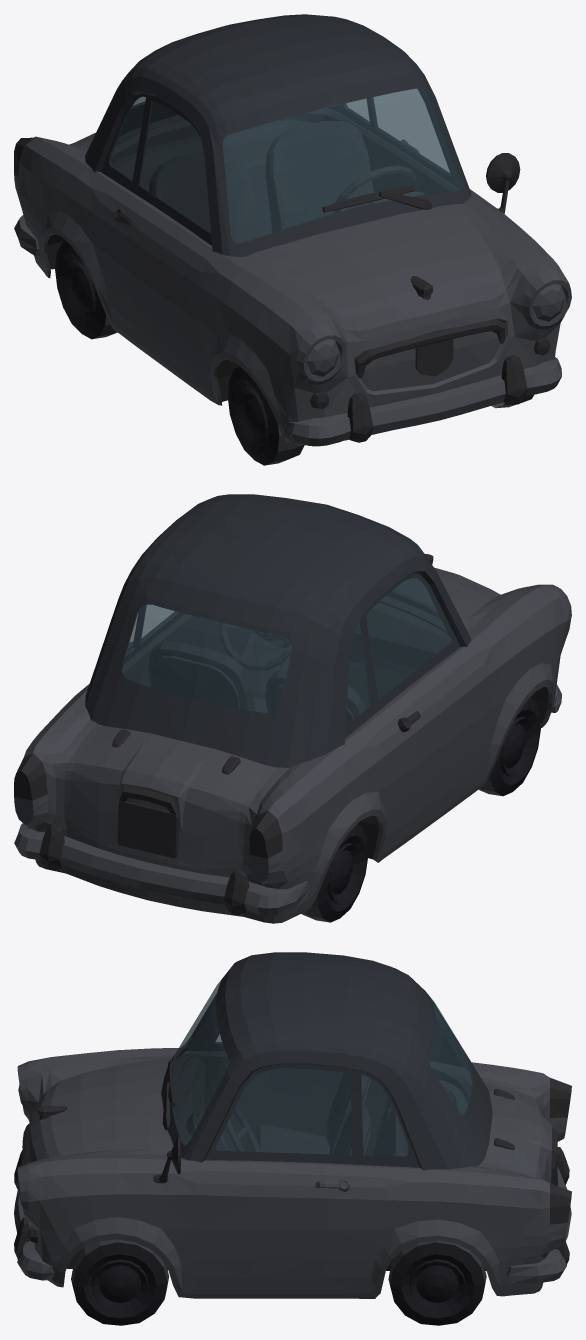
The model's file is pony_custom_ready.glb.
The picture shows the model from 3 angles, top to bottom: view 1: azimuth 30°, elevation 25°; view 2: azimuth 150°, elevation 25°; view 3: azimuth 270°, elevation 25°; orthographic projection. The views are drawn at different scales.
Visible parts, largest first — view 1: Body_Main, Body_RoofShell_2, Glass_AllWindows, Interior, Body_AeroPanel_1, Body_RoofShell_1, Wheel_F_L_Tire, Exterior_Trim_2, Wheel_R_L_Tire, Exterior_Trim_3, Exterior_Trim_15, Exterior_Trim_14 (+3 smaller); view 2: Body_Main, Body_RoofShell_2, Glass_AllWindows, Interior, Body_AeroPanel_2, Wheel_R_L_Tire, Wheel_F_L_Tire, Exterior_Trim_21, Body_RoofShell_1, Exterior_Trim_23, Exterior_Trim_22, Exterior_Trim_13 (+3 smaller); view 3: Body_Main, Body_RoofShell_2, Glass_AllWindows, Interior, Wheel_R_R_Tire, Wheel_F_R_Tire, Body_RoofShell_1, Body_AeroPanel_2, Body_AeroPanel_1, Exterior_Trim_22, Exterior_Trim_23, Wheel_F_R_Hub (+1 smaller).
Boxes of the visible parts, left/top/right/bottom form: Body_Main: left=14, top=132, right=571, bottom=445; Body_RoofShell_2: left=85, top=14, right=471, bottom=256; Glass_AllWindows: left=109, top=87, right=462, bottom=243; Interior: left=111, top=108, right=459, bottom=243; Body_AeroPanel_1: left=286, top=357, right=561, bottom=446; Body_RoofShell_1: left=109, top=87, right=462, bottom=233; Wheel_F_L_Tire: left=227, top=367, right=279, bottom=465; Exterior_Trim_2: left=355, top=319, right=505, bottom=378; Wheel_R_L_Tire: left=55, top=241, right=106, bottom=339; Exterior_Trim_3: left=486, top=153, right=520, bottom=192; Exterior_Trim_15: left=347, top=392, right=373, bottom=442; Exterior_Trim_14: left=501, top=355, right=527, bottom=405; Body_Main: left=14, top=567, right=571, bottom=923; Body_RoofShell_2: left=85, top=494, right=471, bottom=767; Glass_AllWindows: left=121, top=578, right=453, bottom=723; Interior: left=122, top=596, right=451, bottom=722; Body_AeroPanel_2: left=14, top=823, right=309, bottom=915; Wheel_R_L_Tire: left=317, top=824, right=368, bottom=922; Wheel_F_L_Tire: left=490, top=698, right=540, bottom=796; Exterior_Trim_21: left=117, top=801, right=178, bottom=858; Body_RoofShell_1: left=121, top=579, right=453, bottom=723; Exterior_Trim_23: left=249, top=810, right=282, bottom=858; Exterior_Trim_22: left=14, top=753, right=47, bottom=800; Exterior_Trim_13: left=39, top=825, right=64, bottom=870; Body_Main: left=17, top=1048, right=567, bottom=1298; Body_RoofShell_2: left=161, top=952, right=492, bottom=1170; Glass_AllWindows: left=172, top=979, right=473, bottom=1156; Interior: left=172, top=1051, right=471, bottom=1156; Wheel_R_R_Tire: left=390, top=1242, right=484, bottom=1325; Wheel_F_R_Tire: left=72, top=1242, right=167, bottom=1325; Body_RoofShell_1: left=172, top=993, right=473, bottom=1149; Body_AeroPanel_2: left=506, top=1161, right=571, bottom=1283; Body_AeroPanel_1: left=14, top=1163, right=54, bottom=1280; Exterior_Trim_22: left=550, top=1183, right=571, bottom=1224; Exterior_Trim_23: left=550, top=1077, right=571, bottom=1117; Wheel_F_R_Hub: left=71, top=1239, right=169, bottom=1295.
Bounding box in the file's own units: 1.44 × 1.34 × 2.37.
